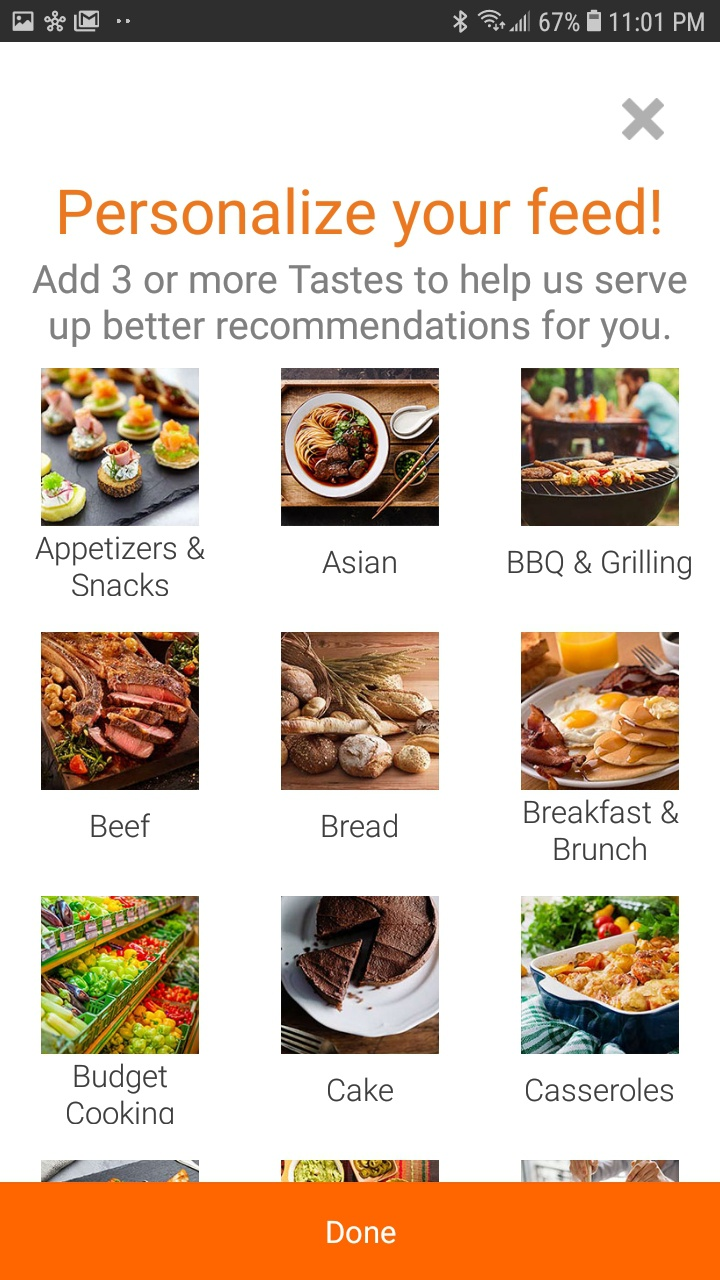Icon: (621, 98, 665, 141)
Image: (281, 368, 440, 527), (281, 632, 440, 791), (41, 896, 200, 1055), (281, 896, 440, 1055), (521, 896, 680, 1055), (42, 368, 200, 527), (521, 368, 679, 527), (42, 632, 200, 791), (521, 632, 679, 791), (281, 1160, 440, 1182), (42, 1160, 200, 1182), (521, 1160, 679, 1182)
Text: (33, 263, 688, 349), (60, 187, 661, 249), (35, 536, 206, 598), (524, 799, 680, 861), (67, 1063, 175, 1125), (508, 549, 692, 581), (526, 1077, 674, 1103), (322, 813, 398, 839), (322, 550, 397, 575), (328, 1077, 394, 1103), (91, 812, 151, 839)
TextButton: (1, 1182, 720, 1280)
UpperTaskBar: (1, 1, 720, 43)
